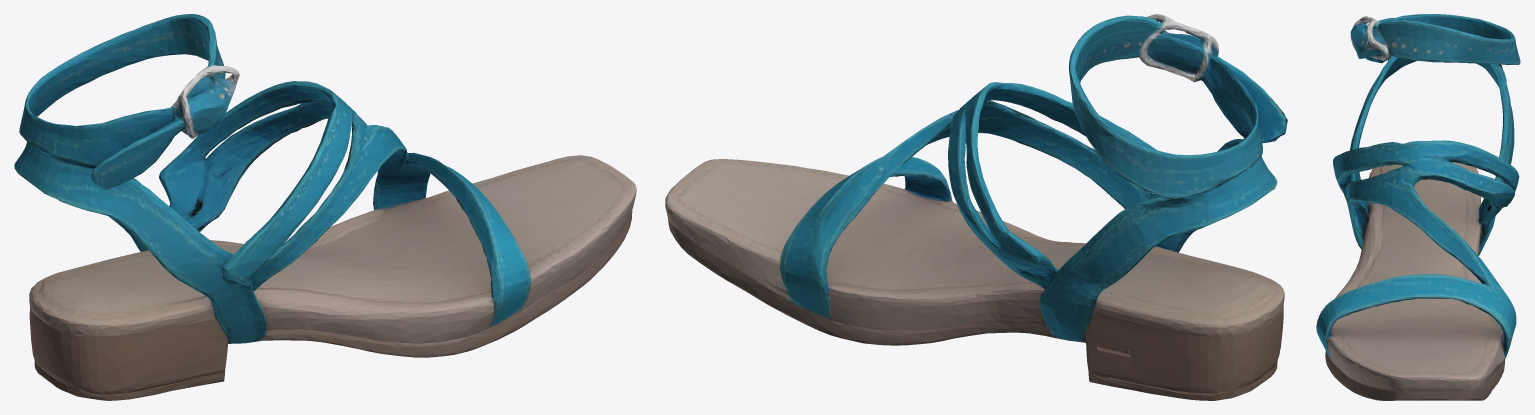
3 renders of one model, left to right at view 1: azimuth 30°, elevation 25°; view 2: azimuth 150°, elevation 25°; view 3: azimuth 270°, elevation 25°, orthographic. The views are drawn at different scales.
Visible parts, largest first — view 1: world; view 2: world; view 3: world.
Boxes of the visible parts, box(x1,y1,x2,y2) form: world: box(14, 14, 636, 400); world: box(665, 14, 1287, 400); world: box(1316, 14, 1520, 400).
Size of the model in its own units: 1 by 0.5447 by 0.3863.
1 material, 1 textured.
